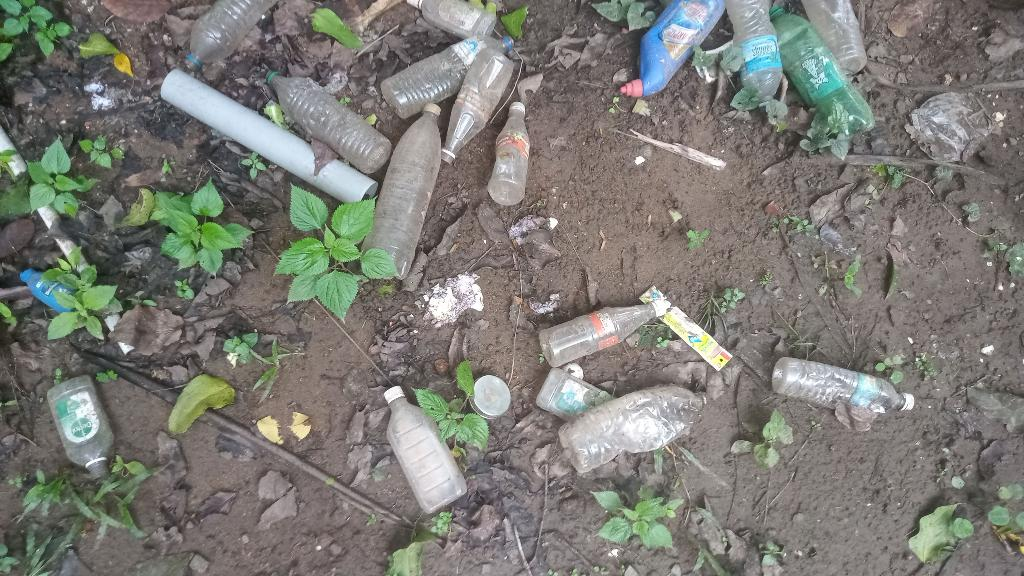garbage: (258, 62, 393, 171), (769, 334, 922, 426), (548, 389, 730, 466), (372, 99, 442, 292), (525, 282, 675, 368), (613, 9, 726, 108), (370, 34, 504, 107), (895, 75, 997, 169), (383, 379, 452, 516), (41, 377, 123, 492), (790, 0, 848, 151), (443, 40, 508, 170), (720, 10, 788, 108), (489, 91, 536, 208), (180, 10, 266, 71), (530, 359, 611, 421), (806, 10, 878, 76), (16, 264, 74, 321), (418, 10, 500, 41)
